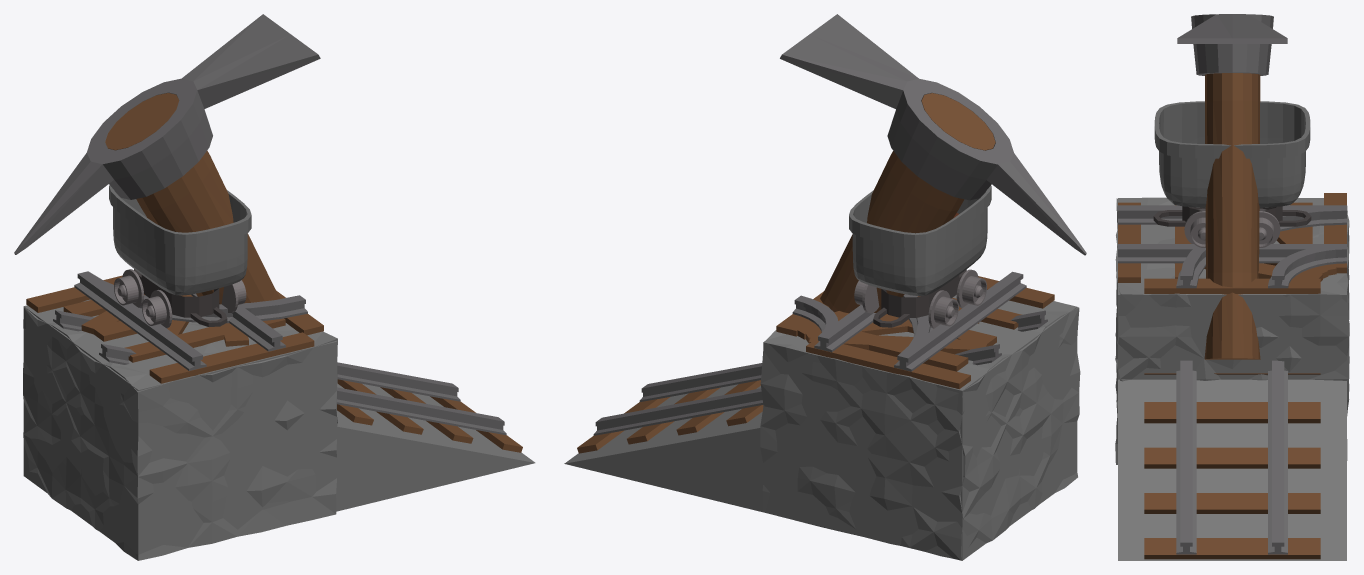
Rendered from pickaxe.obj.
The picture shows the model from 3 angles, left to right: view 1: azimuth 30°, elevation 25°; view 2: azimuth 150°, elevation 25°; view 3: azimuth 270°, elevation 25°; orthographic projection.
Parts seen in each view (by area): view 1: Cube.004_Cube.001, Cube_Cube.005, axetop_Cylinder.002, Cube.002, Cube.001_Cube, axegrip_Cylinder.001, Plane.001, Plane.006_Plane.005, Plane.002_Plane.001, Cube.003_Cube.004, Circle.004_Circle, Plane.004_Plane.003 (+8 smaller); view 2: Cube_Cube.005, Cube.002, axetop_Cylinder.002, Cube.004_Cube.001, Cube.001_Cube, axegrip_Cylinder.001, Plane.002_Plane.001, Plane.006_Plane.005, Plane.001, Cube.020_Cube.004, Circle.004_Circle, Cube.007_Cube.004 (+9 smaller); view 3: Cube.002, axegrip_Cylinder.001, Cube.001_Cube, Cube.004_Cube.001, Cube_Cube.005, axetop_Cylinder.002, Plane.001, Plane.002_Plane.001, Cube.009_Cube.004, Cube.012_Cube.004, Cube.011_Cube.004, Cube.010_Cube.004 (+13 smaller).
Boxes of the visible parts, x1=… form: Cube.004_Cube.001: x1=23, y1=305, x2=336, y2=554; Cube_Cube.005: x1=23, y1=299, x2=337, y2=560; axetop_Cylinder.002: x1=14, y1=14, x2=320, y2=254; Cube.002: x1=23, y1=307, x2=535, y2=554; Cube.001_Cube: x1=109, y1=185, x2=251, y2=295; axegrip_Cylinder.001: x1=105, y1=93, x2=279, y2=304; Plane.001: x1=99, y1=343, x2=506, y2=435; Plane.006_Plane.005: x1=74, y1=271, x2=206, y2=370; Plane.002_Plane.001: x1=53, y1=310, x2=460, y2=401; Cube.003_Cube.004: x1=149, y1=332, x2=314, y2=383; Circle.004_Circle: x1=134, y1=269, x2=227, y2=326; Plane.004_Plane.003: x1=90, y1=272, x2=307, y2=323; Cube_Cube.005: x1=760, y1=295, x2=1080, y2=560; Cube.002: x1=564, y1=308, x2=1076, y2=559; axetop_Cylinder.002: x1=780, y1=14, x2=1086, y2=255; Cube.004_Cube.001: x1=763, y1=300, x2=1077, y2=560; Cube.001_Cube: x1=849, y1=185, x2=991, y2=295; axegrip_Cylinder.001: x1=820, y1=93, x2=995, y2=313; Plane.002_Plane.001: x1=593, y1=344, x2=1001, y2=435; Plane.006_Plane.005: x1=894, y1=271, x2=1026, y2=371; Plane.001: x1=639, y1=310, x2=1047, y2=401; Cube.020_Cube.004: x1=806, y1=337, x2=970, y2=389; Circle.004_Circle: x1=873, y1=269, x2=966, y2=327; Cube.007_Cube.004: x1=803, y1=322, x2=968, y2=371; Cube.002: x1=1118, y1=379, x2=1346, y2=560; axegrip_Cylinder.001: x1=1204, y1=73, x2=1260, y2=359; Cube.001_Cube: x1=1154, y1=101, x2=1310, y2=207; Cube.004_Cube.001: x1=1118, y1=198, x2=1346, y2=379; Cube_Cube.005: x1=1115, y1=197, x2=1349, y2=464; axetop_Cylinder.002: x1=1177, y1=14, x2=1287, y2=75; Plane.001: x1=1176, y1=360, x2=1196, y2=554; Plane.002_Plane.001: x1=1268, y1=360, x2=1287, y2=554; Cube.009_Cube.004: x1=1144, y1=538, x2=1320, y2=559; Cube.012_Cube.004: x1=1144, y1=402, x2=1320, y2=423; Cube.011_Cube.004: x1=1144, y1=447, x2=1320, y2=468; Cube.010_Cube.004: x1=1144, y1=493, x2=1320, y2=513.
Size of the model in its own units: 4.67 by 4.18 by 2.05.
